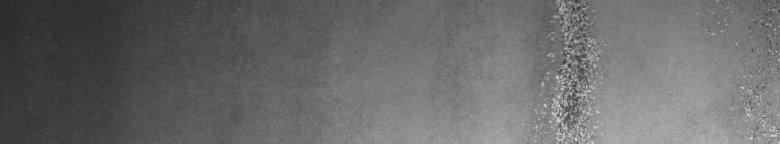hc: (535, 4, 606, 136)
